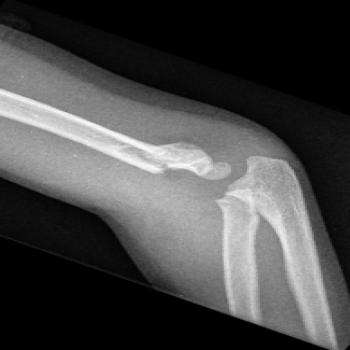Fracture: (135, 160, 266, 198)
